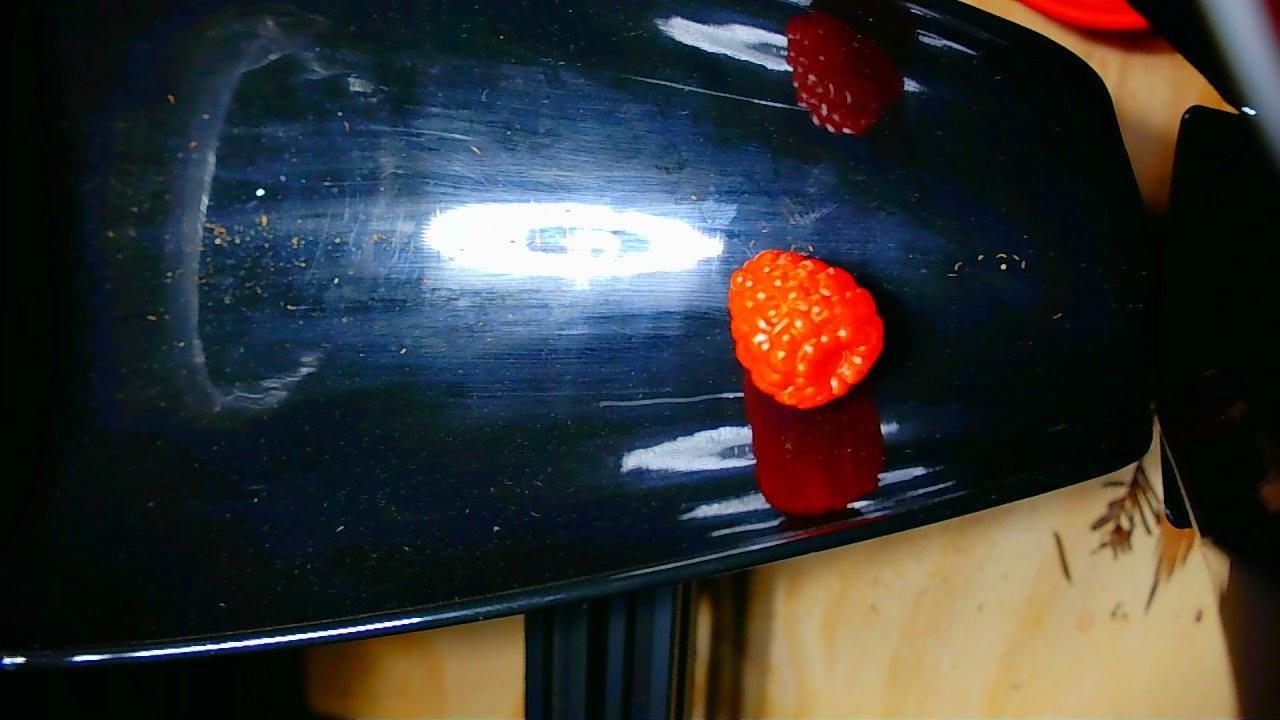berry: (728, 250, 883, 409)
